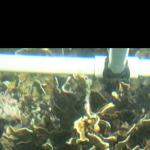alive: (1, 48, 148, 148)
